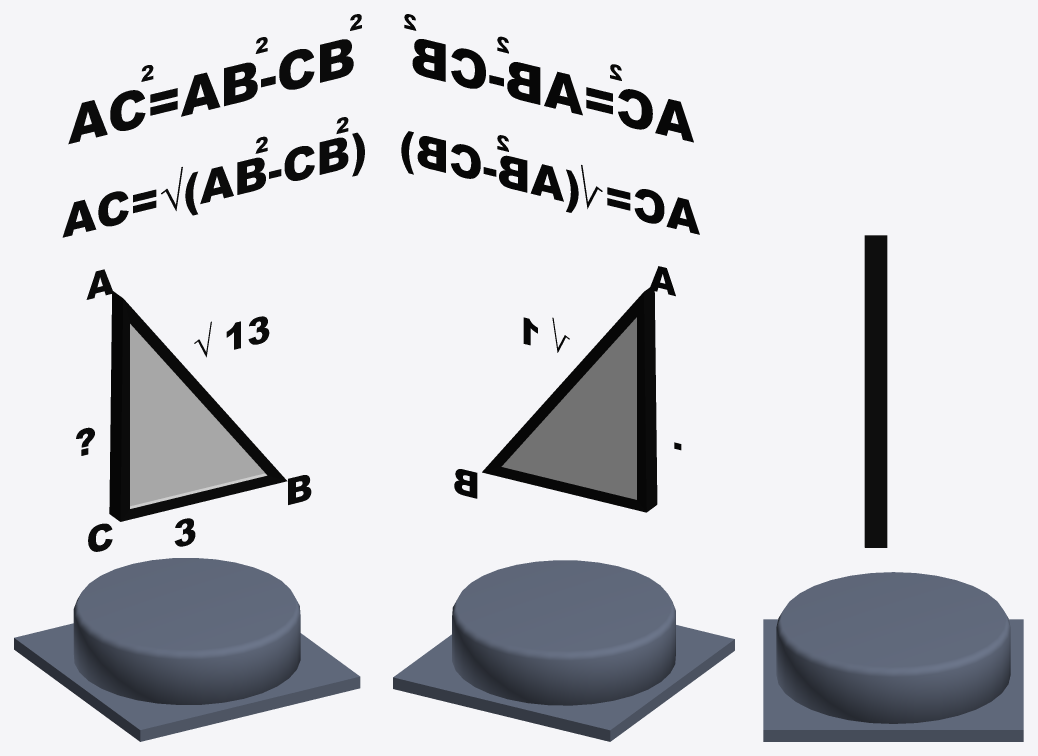
3 views of the same model, side by side, from view 1: azimuth 30°, elevation 25°; view 2: azimuth 150°, elevation 25°; view 3: azimuth 270°, elevation 25° (orthographic). The views are drawn at different scales.
Parts seen in each view (by area): view 1: Cube, Cube.001, Text.007, Text.008, Text.004; view 2: Cube, Cube.001, Text.007, Text.008; view 3: Cube, Cube.001.
Part boxes in pixels (<box>): Cube: <box>14,558,360,741</box>; Cube.001: <box>109,291,287,521</box>; Text.007: <box>68,39,353,144</box>; Text.008: <box>62,132,364,237</box>; Text.004: <box>194,316,269,357</box>; Cube: <box>393,560,734,741</box>; Cube.001: <box>482,287,657,512</box>; Text.007: <box>412,39,693,142</box>; Text.008: <box>401,131,699,234</box>; Cube: <box>763,572,1023,741</box>; Cube.001: <box>864,235,887,547</box>.
Bounding box in the file's own units: 12.57 × 24.61 × 9.09.
